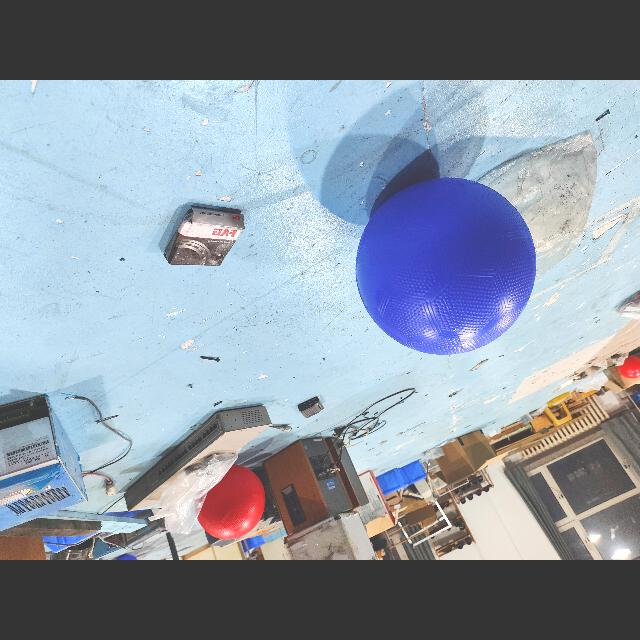B: (354, 175, 538, 358), (114, 554, 140, 560)
R: (193, 464, 265, 540), (616, 355, 640, 379)
